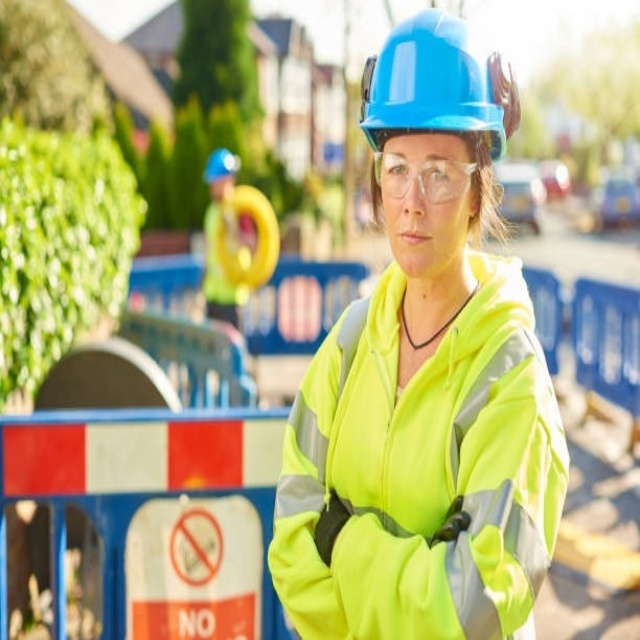Gafas: (371, 151, 475, 202)
Guantes: (314, 489, 355, 568), (430, 495, 472, 548)
Sin_mascara: (392, 223, 439, 270)
